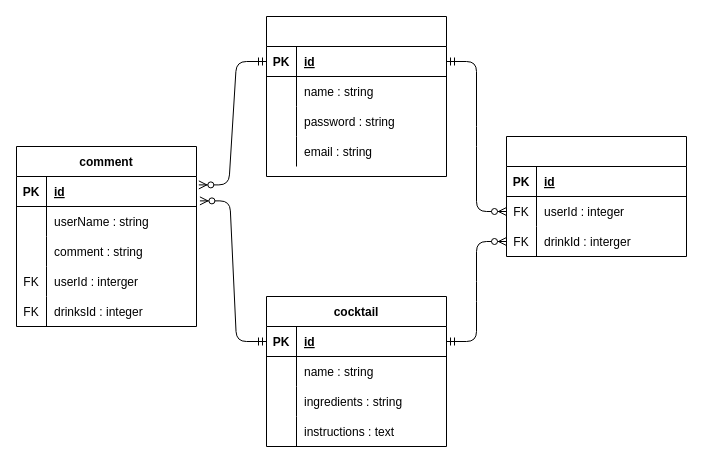
Some shapes in this 703 by 463 pixel diagram are drawn without their labels. The shapes that lost their labels are listed below. From the top down, each one's box as (x1, y1, x2, y2) in pixels, then its label:
(266, 16, 446, 176): user
(506, 136, 686, 256): users_drinks
